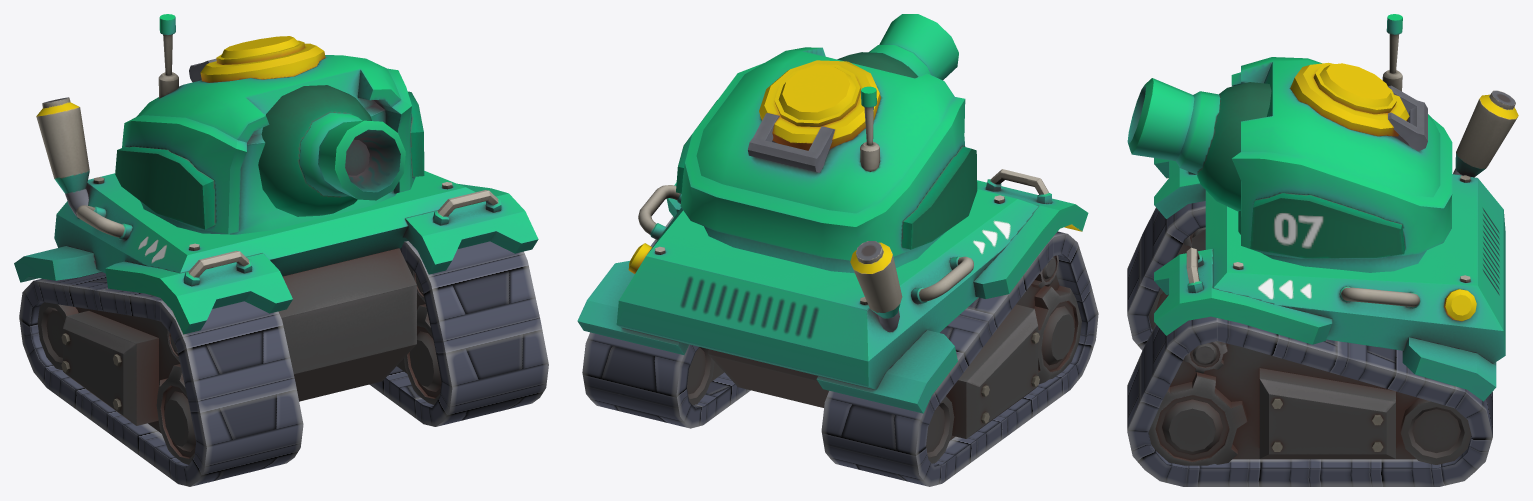
File: Player_Tank _GO-07.fbx
The picture shows the model from 3 angles, left to right: view 1: azimuth 30°, elevation 25°; view 2: azimuth 150°, elevation 25°; view 3: azimuth 270°, elevation 25°; orthographic projection. The views are drawn at different scales.
Visible parts, largest first — view 1: Player_Tank _GO-07 | Chassis, Player_Tank _GO-07 | Track.R, Player_Tank _GO-07 | Turret, Player_Tank _GO-07 | Track.L, Player_Tank _GO-07 | Barrel, Player_Tank _GO-07 | Wheels_02.L, Player_Tank _GO-07 | Hatch, Player_Tank _GO-07 | Exhaust, Player_Tank _GO-07 | Antenna; view 2: Player_Tank _GO-07 | Chassis, Player_Tank _GO-07 | Turret, Player_Tank _GO-07 | Track.R, Player_Tank _GO-07 | Track.L, Player_Tank _GO-07 | Hatch, Player_Tank _GO-07 | Barrel, Player_Tank _GO-07 | Wheels_02.L, Player_Tank _GO-07 | Exhaust, Player_Tank _GO-07 | Antenna; view 3: Player_Tank _GO-07 | Track.L, Player_Tank _GO-07 | Chassis, Player_Tank _GO-07 | Turret, Player_Tank _GO-07 | Barrel, Player_Tank _GO-07 | Wheels_02.L, Player_Tank _GO-07 | Hatch, Player_Tank _GO-07 | Track.R, Player_Tank _GO-07 | Exhaust, Player_Tank _GO-07 | Antenna.
Part boxes in pixels (bbox=[...]): Player_Tank _GO-07 | Chassis: bbox=[14, 171, 538, 401]; Player_Tank _GO-07 | Track.R: bbox=[19, 272, 303, 486]; Player_Tank _GO-07 | Turret: bbox=[115, 55, 424, 234]; Player_Tank _GO-07 | Track.L: bbox=[369, 241, 548, 426]; Player_Tank _GO-07 | Barrel: bbox=[258, 85, 405, 216]; Player_Tank _GO-07 | Wheels_02.L: bbox=[156, 271, 441, 464]; Player_Tank _GO-07 | Hatch: bbox=[189, 36, 325, 82]; Player_Tank _GO-07 | Exhaust: bbox=[36, 97, 89, 217]; Player_Tank _GO-07 | Antenna: bbox=[158, 14, 178, 98]; Player_Tank _GO-07 | Chassis: bbox=[577, 169, 1088, 413]; Player_Tank _GO-07 | Turret: bbox=[676, 47, 977, 273]; Player_Tank _GO-07 | Track.R: bbox=[821, 231, 1098, 486]; Player_Tank _GO-07 | Track.L: bbox=[582, 216, 750, 428]; Player_Tank _GO-07 | Hatch: bbox=[748, 60, 880, 172]; Player_Tank _GO-07 | Barrel: bbox=[837, 14, 958, 80]; Player_Tank _GO-07 | Wheels_02.L: bbox=[1031, 255, 1081, 384]; Player_Tank _GO-07 | Exhaust: bbox=[850, 241, 902, 331]; Player_Tank _GO-07 | Antenna: bbox=[860, 86, 880, 171]; Player_Tank _GO-07 | Track.L: bbox=[1127, 316, 1492, 486]; Player_Tank _GO-07 | Chassis: bbox=[1154, 158, 1505, 401]; Player_Tank _GO-07 | Turret: bbox=[1231, 57, 1452, 272]; Player_Tank _GO-07 | Barrel: bbox=[1127, 78, 1271, 211]; Player_Tank _GO-07 | Wheels_02.L: bbox=[1148, 227, 1247, 465]; Player_Tank _GO-07 | Hatch: bbox=[1290, 62, 1427, 151]; Player_Tank _GO-07 | Track.R: bbox=[1127, 201, 1205, 350]; Player_Tank _GO-07 | Exhaust: bbox=[1453, 90, 1518, 177]; Player_Tank _GO-07 | Antenna: bbox=[1382, 14, 1402, 91].
Bounding box in the file's own units: 1.45 × 1.36 × 1.36.
